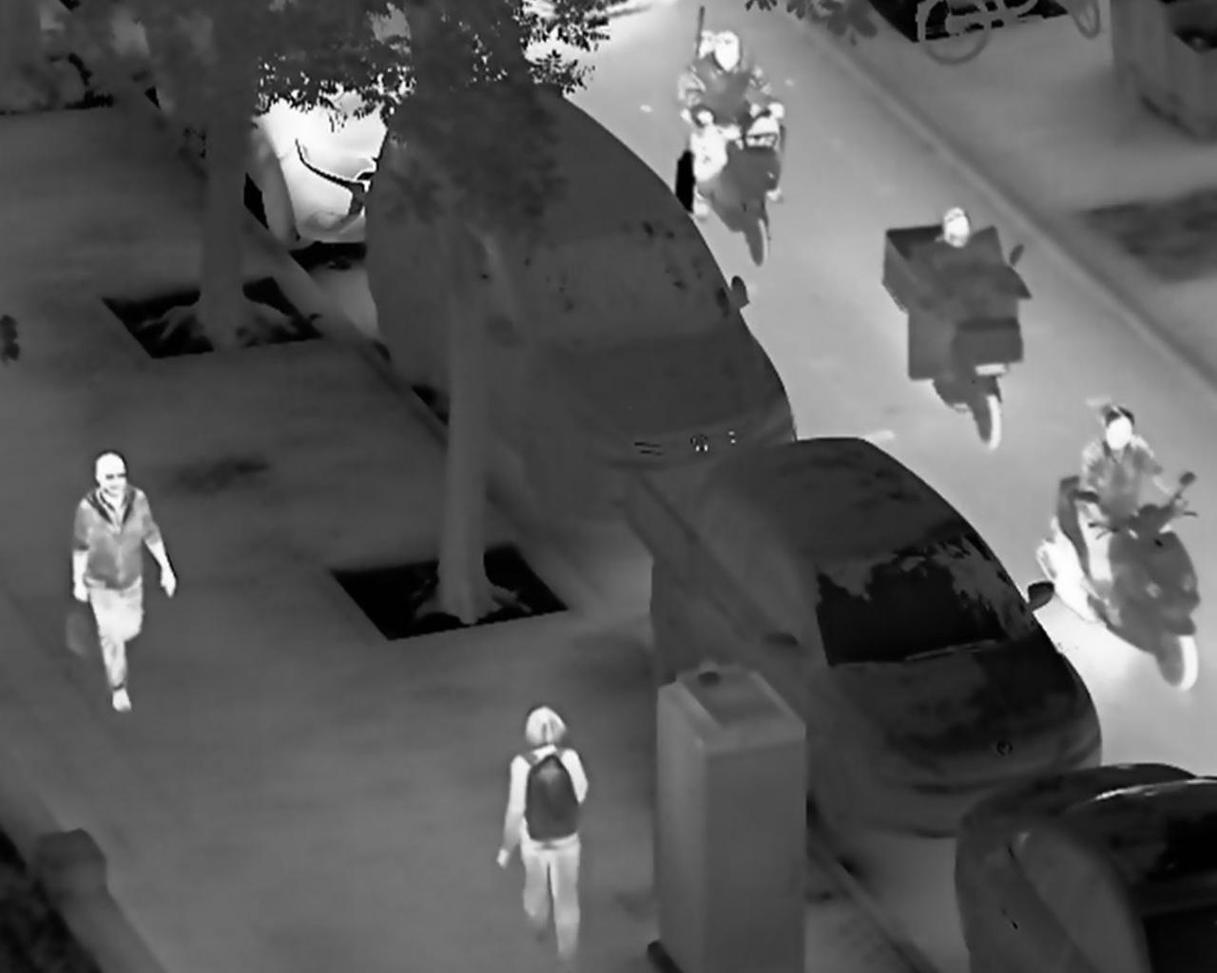person: (68, 450, 179, 717), (1072, 399, 1189, 637), (493, 700, 592, 973), (682, 28, 787, 223), (917, 197, 1018, 340)
